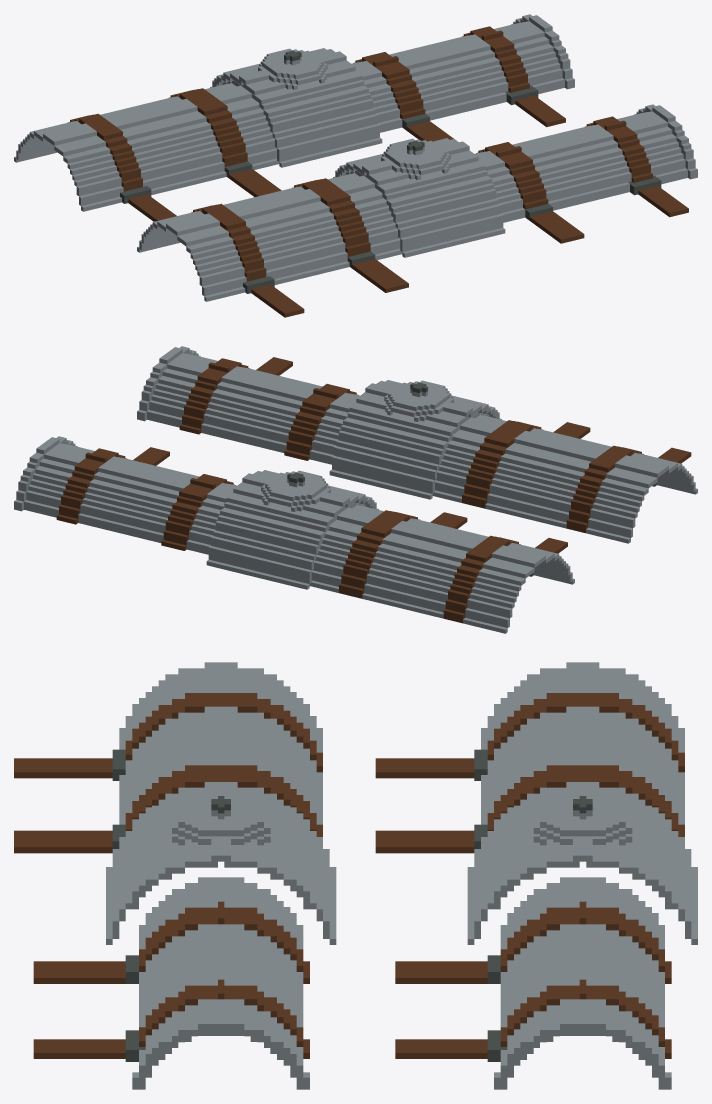
File: ch_armguard_metal.glb
3 views of the same model, one above another, from view 1: azimuth 30°, elevation 25°; view 2: azimuth 150°, elevation 25°; view 3: azimuth 270°, elevation 25° (orthographic). The views are drawn at different scales.
Visible parts, largest first — view 1: ch_armguard_metal:compound; view 2: ch_armguard_metal:compound; view 3: ch_armguard_metal:compound.
Part boxes in pixels (x1=…): ch_armguard_metal:compound: x1=14, y1=14, x2=697, y2=317; ch_armguard_metal:compound: x1=14, y1=346, x2=697, y2=633; ch_armguard_metal:compound: x1=14, y1=662, x2=697, y2=1089.
Size of the model in its own units: 0.512 by 0.072 by 0.416.
